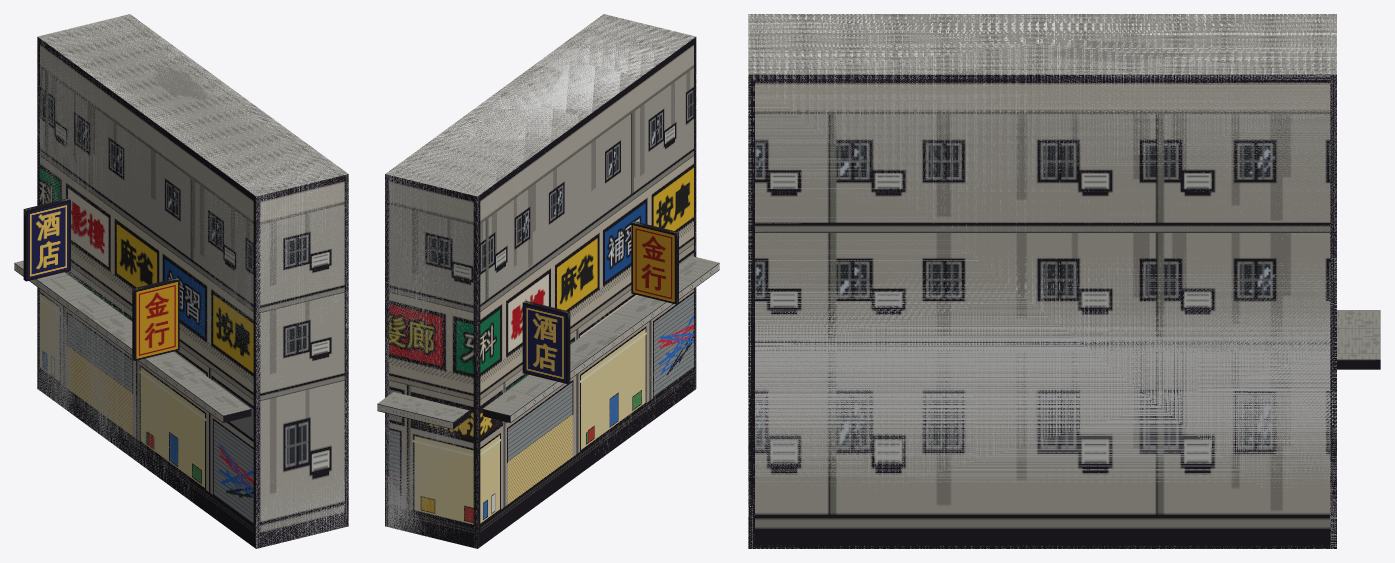
3 renders of one model, left to right at view 1: azimuth 30°, elevation 25°; view 2: azimuth 150°, elevation 25°; view 3: azimuth 270°, elevation 25°, orthographic. The views are drawn at different scales.
Visible parts, largest first — view 1: 19D-E14, COL_19D-E14_0; view 2: 19D-E14, COL_19D-E14_0; view 3: 19D-E14, COL_19D-E14_0.
Boxes of the visible parts, left/top/right/bottom form: 19D-E14: left=14, top=14, right=348, bottom=548; COL_19D-E14_0: left=37, top=14, right=348, bottom=548; 19D-E14: left=377, top=14, right=719, bottom=548; COL_19D-E14_0: left=385, top=14, right=696, bottom=548; 19D-E14: left=748, top=14, right=1380, bottom=548; COL_19D-E14_0: left=748, top=14, right=1336, bottom=548.
Bounding box in the file's own units: 5.15 × 12 × 14.5.
Materials: 1 (1 with a texture image).
